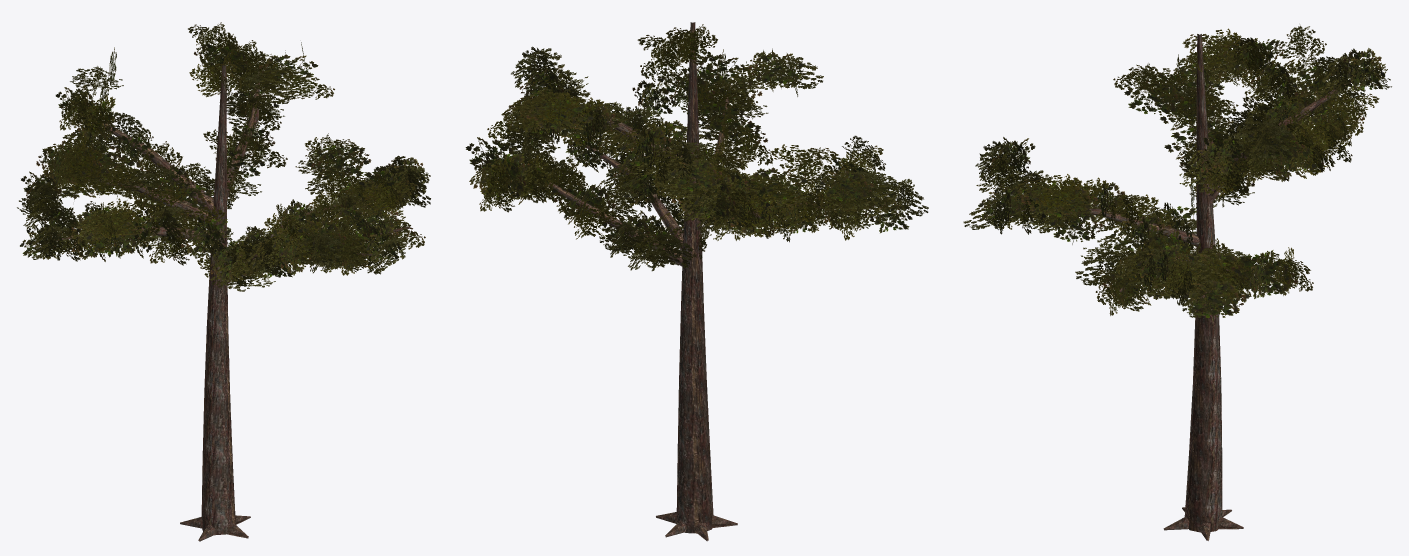
Rendered from tree_3d_03_lod1.glb.
The picture shows the model from 3 angles, left to right: view 1: azimuth 30°, elevation 25°; view 2: azimuth 150°, elevation 25°; view 3: azimuth 270°, elevation 25°; orthographic projection. The views are drawn at different scales.
Parts seen in each view (by area): view 1: foliage_cards, wood_geometry; view 2: foliage_cards, wood_geometry; view 3: foliage_cards, wood_geometry.
Boxes of the visible parts, x1,y1,x2,y2 form: foliage_cards: (17, 22, 430, 291); wood_geometry: (54, 65, 410, 541); foliage_cards: (465, 24, 928, 271); wood_geometry: (548, 22, 885, 541); foliage_cards: (963, 25, 1391, 321); wood_geometry: (1016, 34, 1352, 540).
Bounding box in the file's own units: 9.89 × 10.63 × 8.38.
2 materials, 2 textured.
